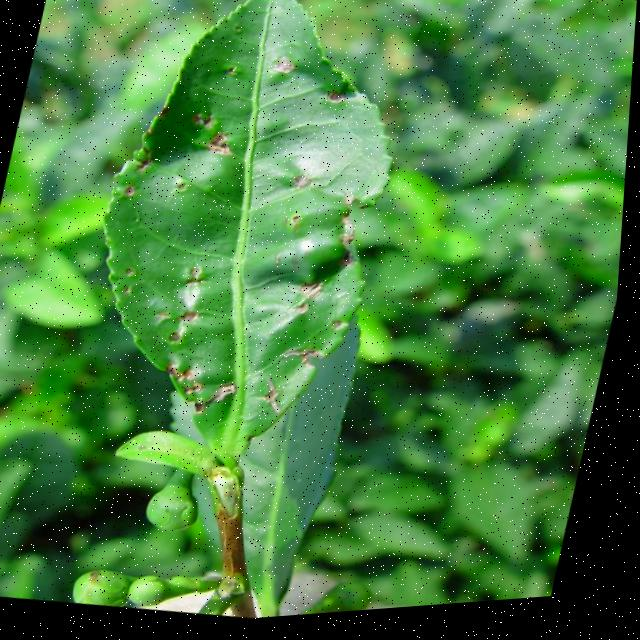Tea red scab: (75, 0, 416, 431)
